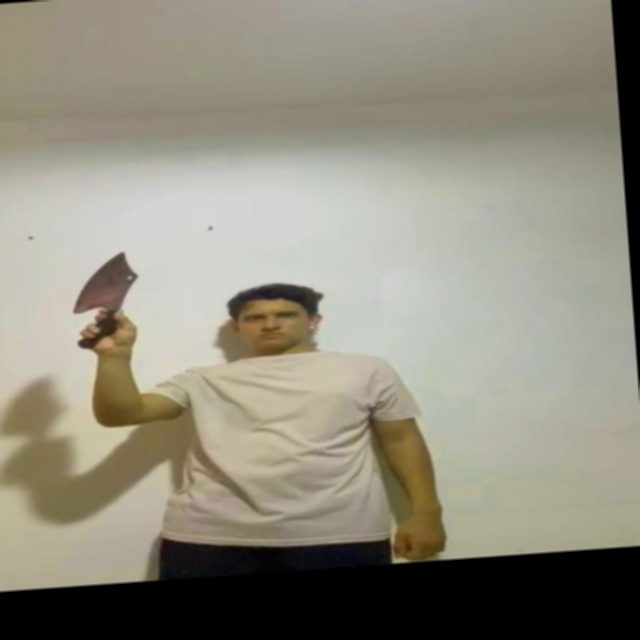Sharp-Object: (73, 252, 144, 313)
